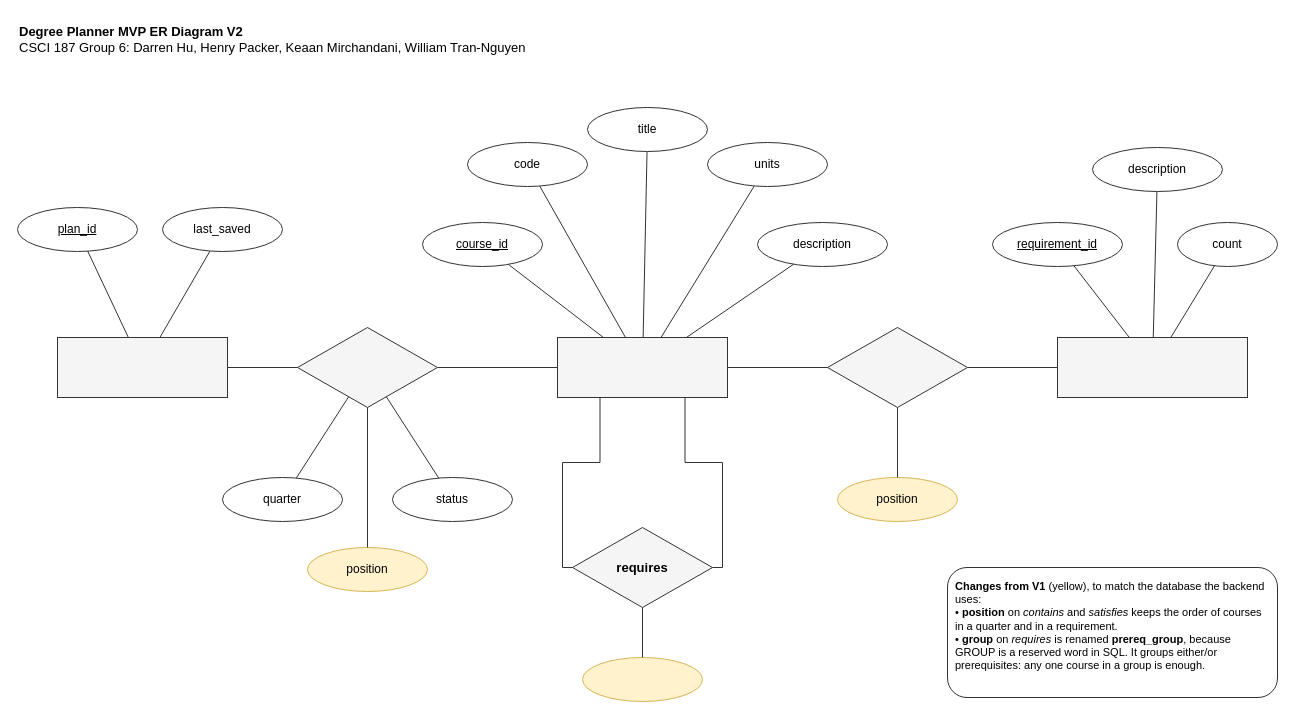
Image size: 1295x719. Some labels were removed from this diagram. The centre of each missing label's shape, as x and y in pixels:
"contains" belongs at (x=367, y=367).
"Course" belongs at (x=642, y=367).
"DegreePlan" belongs at (x=142, y=367).
"DegreeRequirement" belongs at (x=1152, y=367).
"prereq_group" belongs at (x=642, y=679).
"satisfies" belongs at (x=897, y=367).
